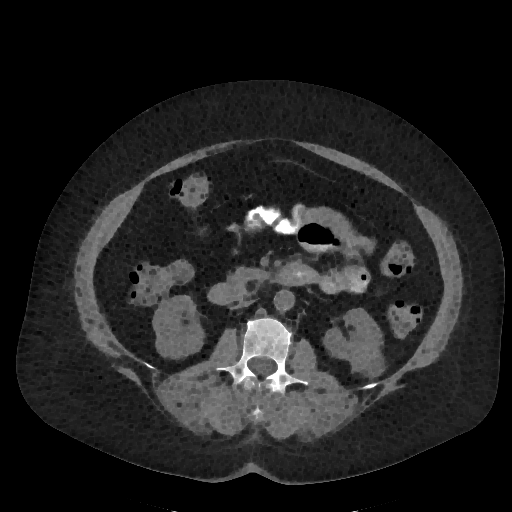Lesion: (348, 342, 387, 378)
